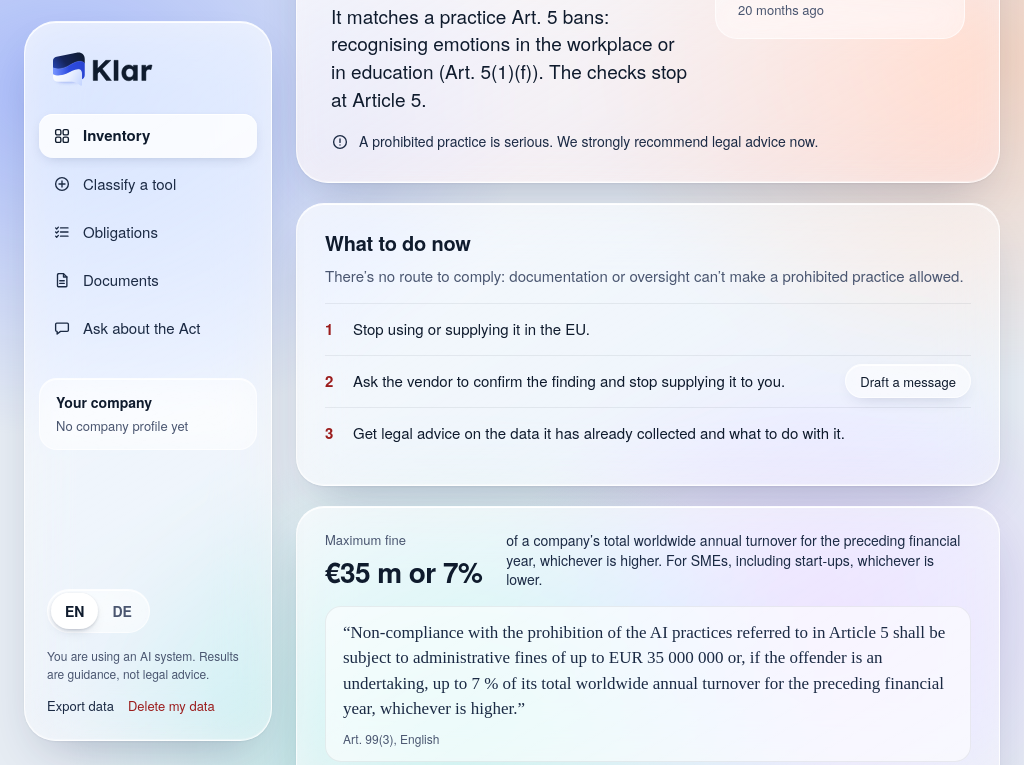
Test: A recorded prohibited result (en) › says when the browser refuses the clipboard
(page scrolled)
Click the button "Draft a message" at (908, 382), box x1=845 y1=364 x2=971 y2=398
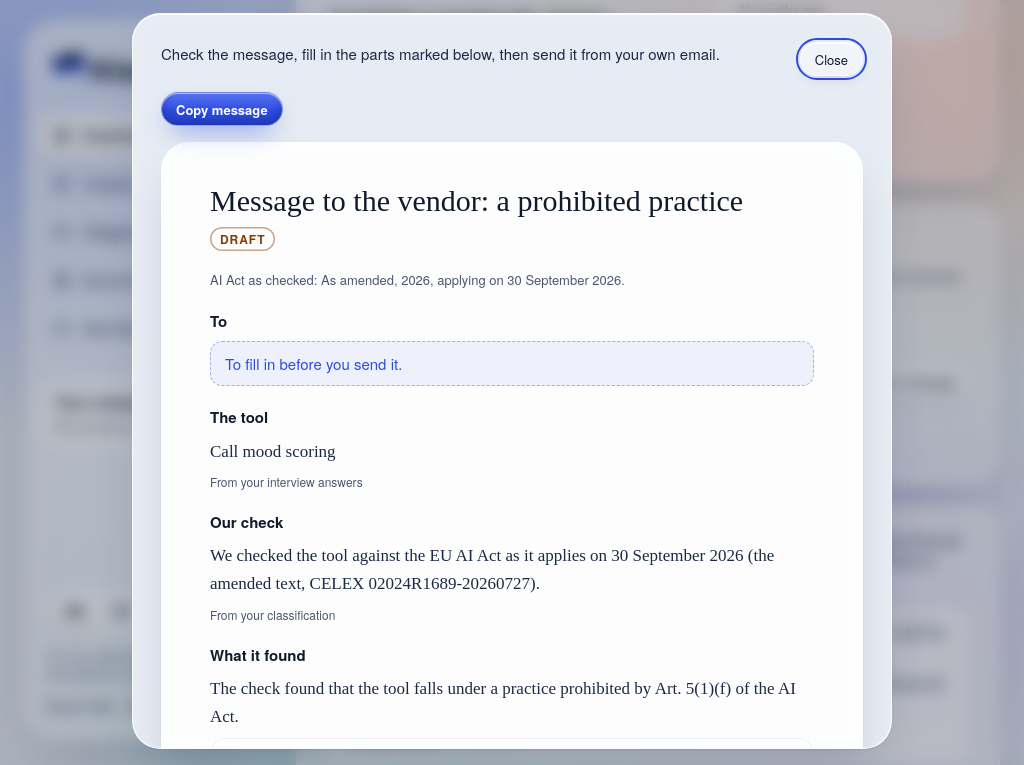
Click the button "Copy message" at (222, 109), box x1=161 y1=92 x2=283 y2=126
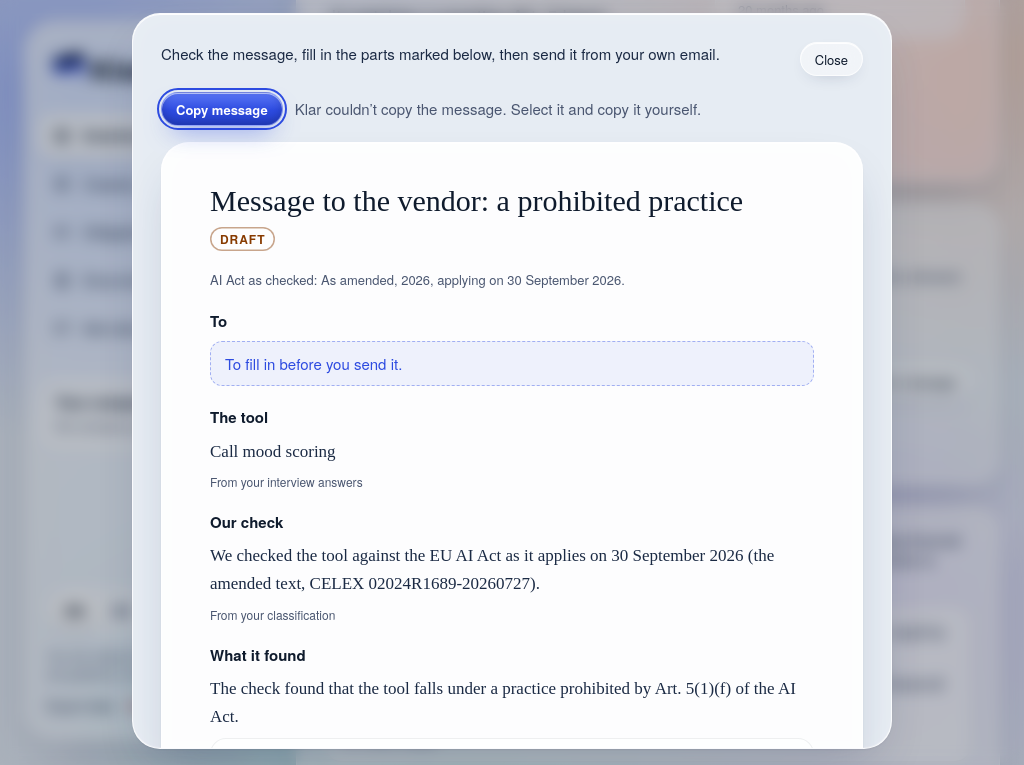
expect the text "Klar couldn’t copy the message. Select it and copy it yourself." is shown: met, box x1=295 y1=97 x2=701 y2=121
